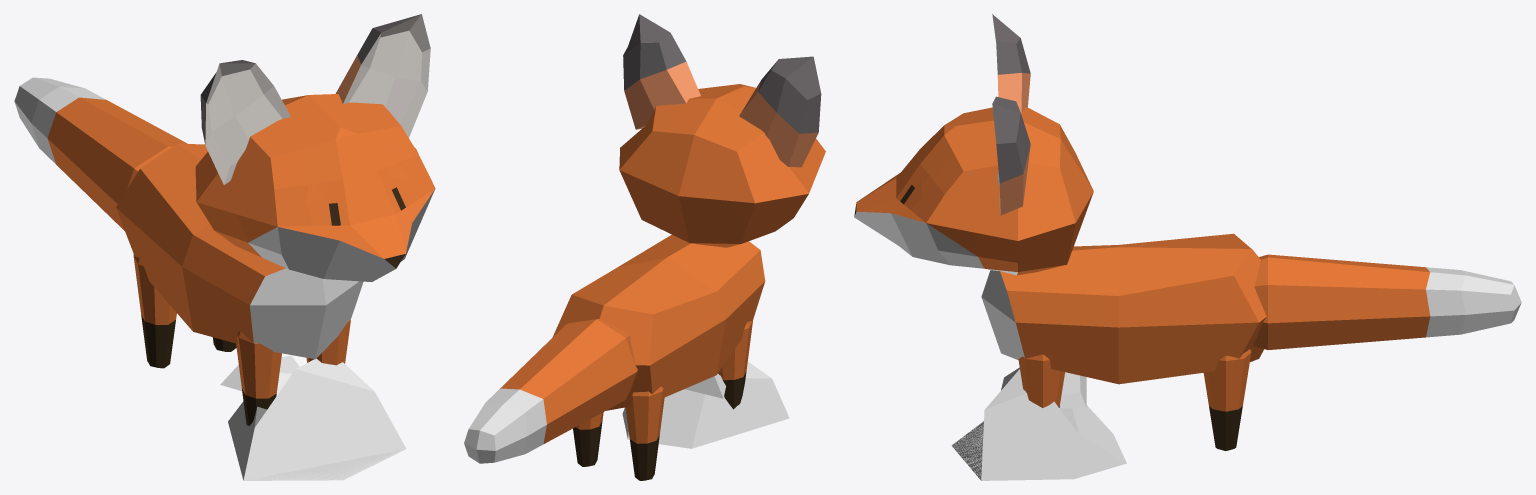
The model's file is BigRock.fbx.
The picture shows the model from 3 angles, left to right: view 1: azimuth 30°, elevation 25°; view 2: azimuth 150°, elevation 25°; view 3: azimuth 270°, elevation 25°; orthographic projection. The views are drawn at different scales.
Visible parts, largest first — view 1: Cube, Cube.002, Cube.021, Cube.001, Cube.005, Cube.003, Cube.004, Cube.020; view 2: Cube, Cube.002, Cube.005, Cube.001, Cube.021, Cube.004, Cube.003, Cube.020; view 3: Cube.002, Cube, Cube.005, Cube.021, Cube.001, Cube.004, Cube.003, Cube.020.
Part boxes in pixels (x1,y1,x2,y2): Cube: (195,94,435,281); Cube.002: (116,143,363,359); Cube.021: (228,358,406,480); Cube.001: (200,14,430,184); Cube.005: (14,77,187,230); Cube.003: (236,319,350,425); Cube.004: (133,254,236,368); Cube.020: (220,355,299,396); Cube: (619,84,825,247); Cube.002: (552,235,765,410); Cube.005: (464,319,637,463); Cube.001: (623,14,821,167); Cube.021: (622,361,789,448); Cube.004: (573,386,664,480); Cube.003: (718,320,752,409); Cube.020: (684,373,725,398); Cube.002: (981,233,1266,384); Cube: (854,107,1093,275); Cube.005: (1253,254,1521,349); Cube.021: (951,367,1126,480); Cube.001: (992,14,1030,215); Cube.004: (1203,349,1251,450); Cube.003: (1018,354,1064,407); Cube.020: (1059,372,1086,408).
Size of the model in its own units: 164 by 297 by 465.
